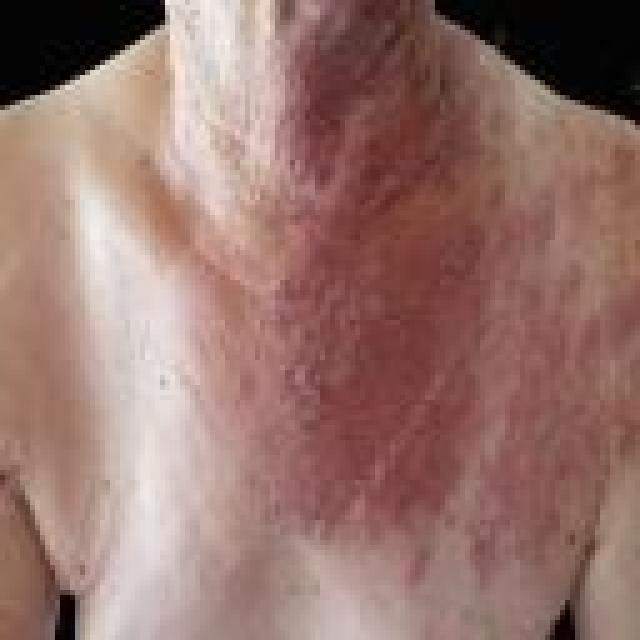Shingles: (276, 6, 640, 592)
